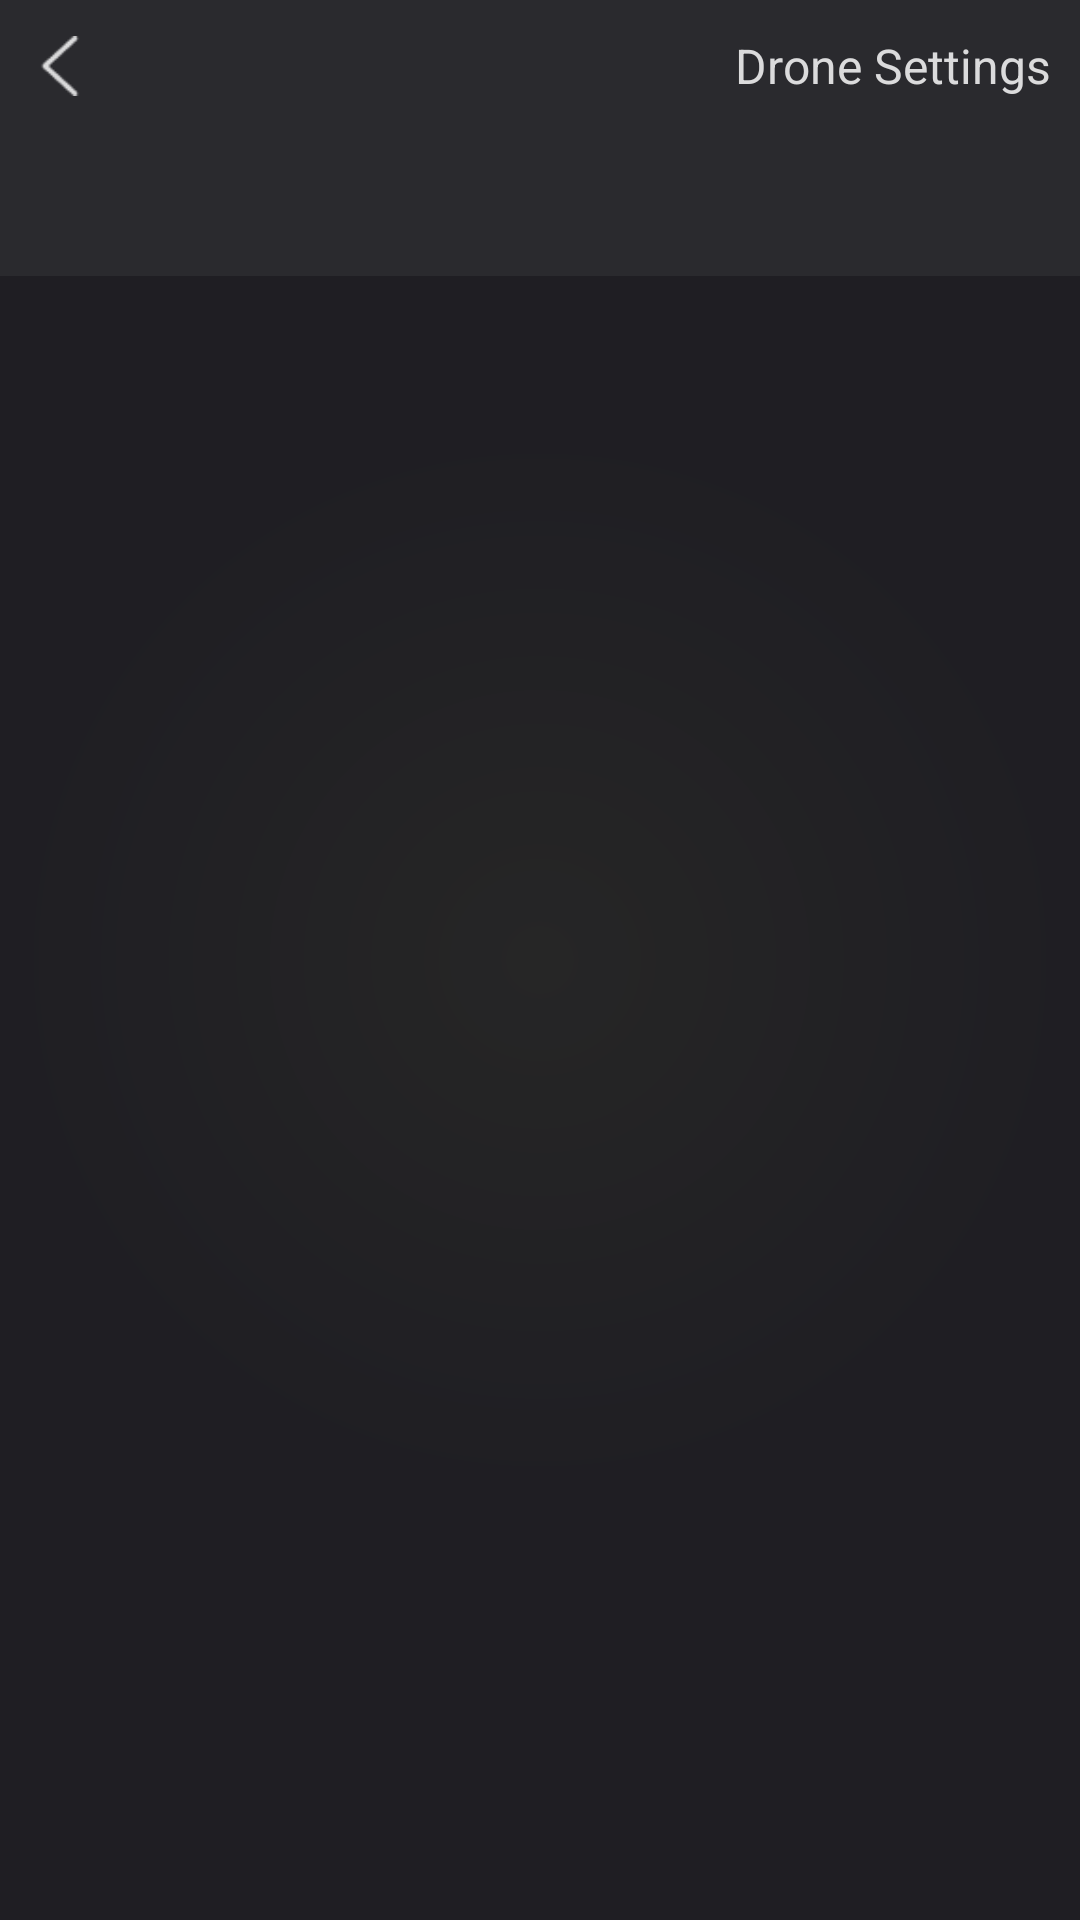

Screen size 1080px×1920px. Icon name, then its box in pixels as bbox=(x1, y1, x2, y2):
Back: bbox=(41, 36, 78, 96)
